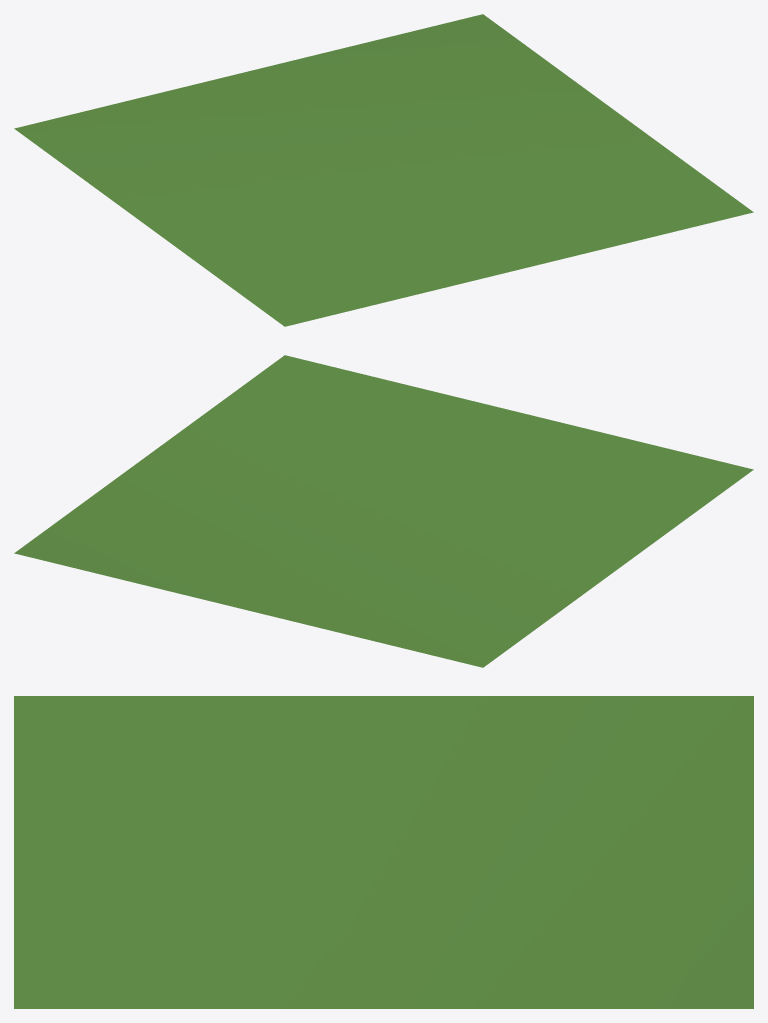
The model's file is terrain_10_2_1.glb.
3 renders of one model, top to bottom at view 1: azimuth 30°, elevation 25°; view 2: azimuth 150°, elevation 25°; view 3: azimuth 270°, elevation 25°, orthographic. The views are drawn at different scales.
Visible parts, largest first — view 1: m; view 2: m; view 3: m.
Part boxes in pixels (box(x1,y1,x2,y2)): m: box(14, 14, 753, 326); m: box(14, 355, 753, 667); m: box(14, 696, 753, 1008).
Bounding box in the file's own units: 2 × 0 × 2.
